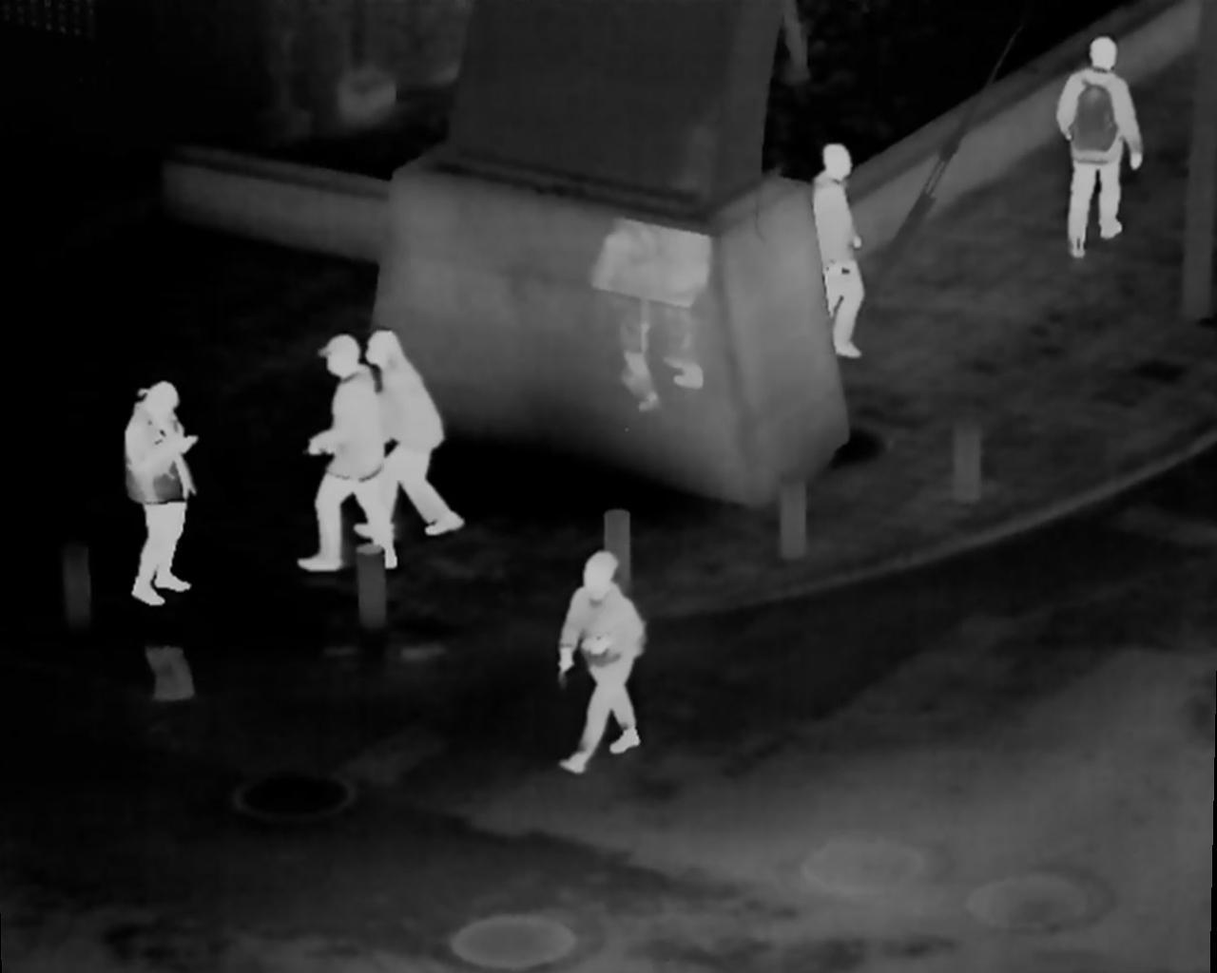person: (372, 331, 457, 588), (558, 553, 651, 775), (116, 380, 205, 607), (300, 331, 377, 577), (1056, 36, 1139, 256), (802, 143, 871, 366)
